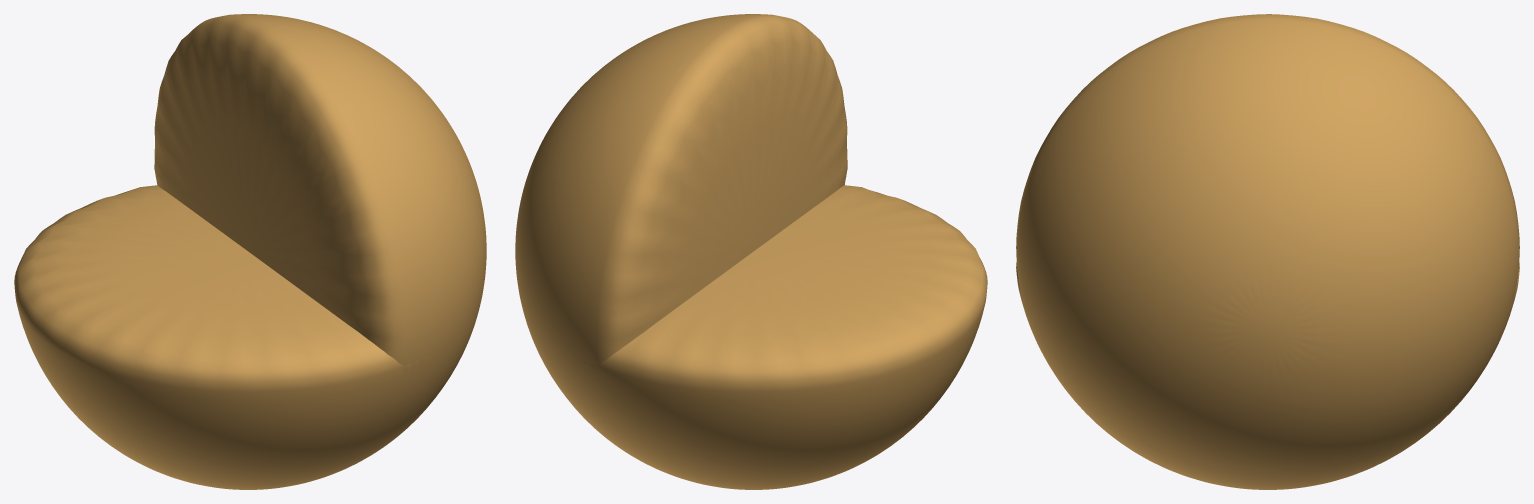
The model's file is Takoyaki43.fbx.
3 renders of one model, left to right at view 1: azimuth 30°, elevation 25°; view 2: azimuth 150°, elevation 25°; view 3: azimuth 270°, elevation 25°, orthographic. The views are drawn at different scales.
Parts seen in each view (by area): view 1: 球体; view 2: 球体; view 3: 球体.
Part boxes in pixels (x1=…): 球体: x1=14, y1=14, x2=486, y2=489; 球体: x1=515, y1=14, x2=987, y2=489; 球体: x1=1016, y1=14, x2=1519, y2=489.
Size of the model in its own units: 197 by 198 by 195.
